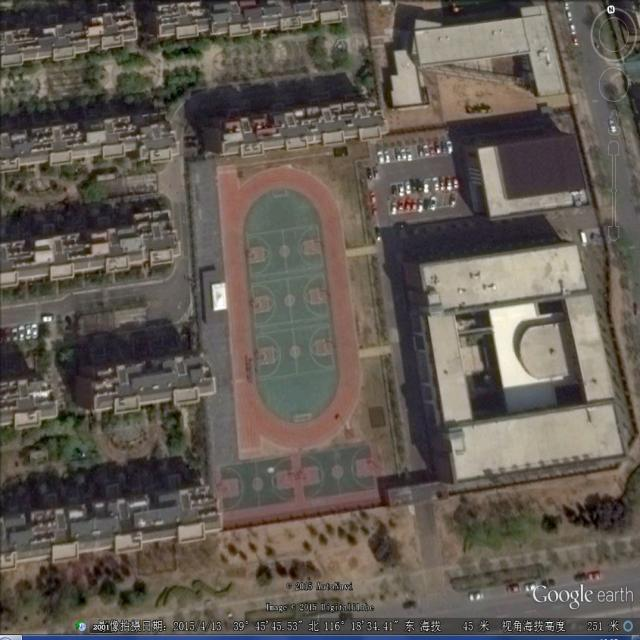playground: (215, 162, 365, 454)
